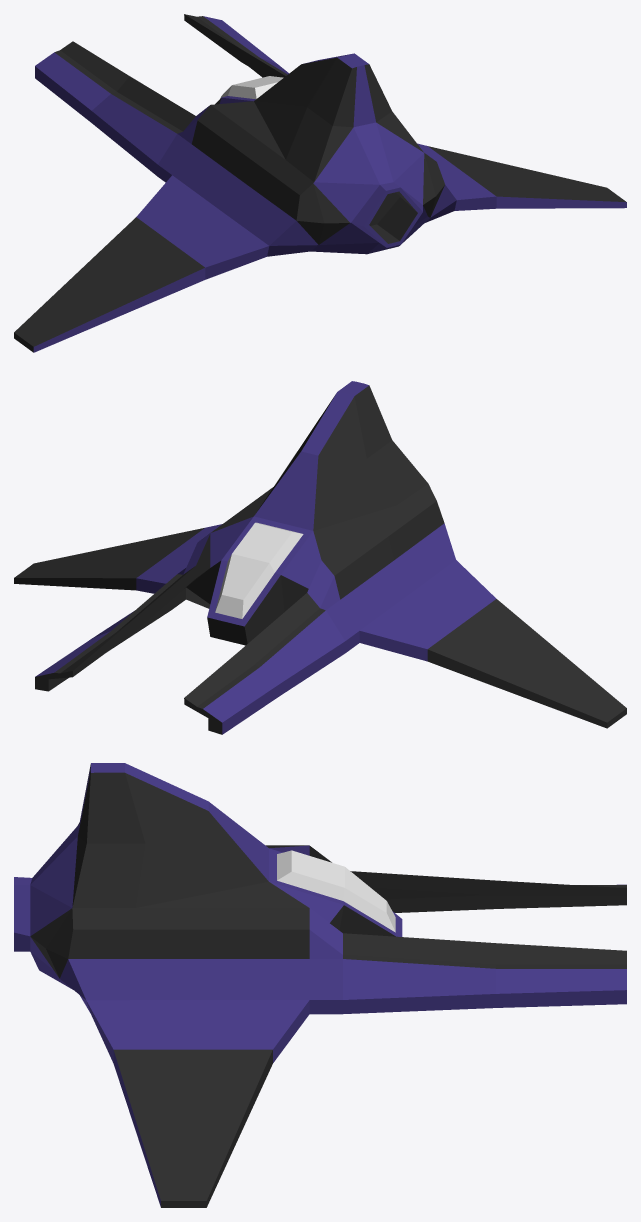
The model's file is Spaceship Proto 2.FBX.
3 renders of one model, top to bottom at view 1: azimuth 30°, elevation 25°; view 2: azimuth 150°, elevation 25°; view 3: azimuth 270°, elevation 25°, orthographic. The views are drawn at different scales.
Parts seen in each view (by area): view 1: Box01; view 2: Box01; view 3: Box01.
Boxes of the visible parts, bbox=[...] form: Box01: bbox=[14, 14, 626, 352]; Box01: bbox=[14, 381, 626, 734]; Box01: bbox=[14, 763, 626, 1207].
Size of the model in its own units: 98.83 by 37.7 by 76.61.
